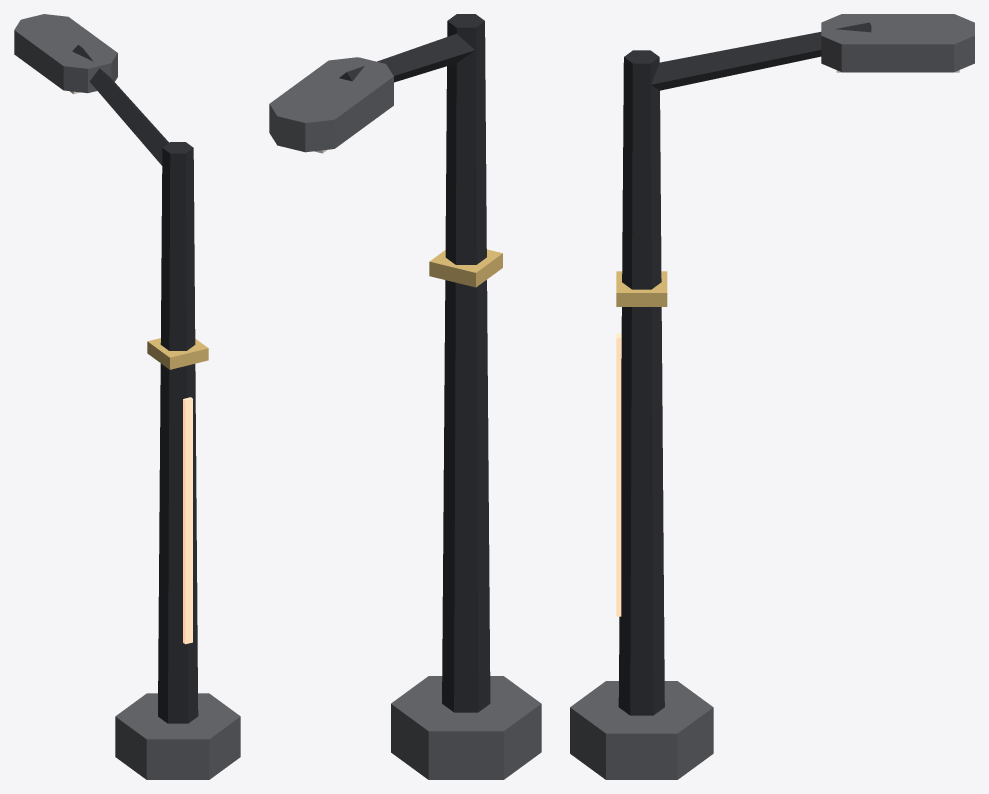
Rendered from Prop_Aegis_Streetlight.fbx.
3 views of the same model, side by side, from view 1: azimuth 30°, elevation 25°; view 2: azimuth 150°, elevation 25°; view 3: azimuth 270°, elevation 25° (orthographic). The views are drawn at different scales.
Visible parts, largest first — view 1: PSL_Pole, PSL_Foot, PSL_Head, PSL_Strip, PSL_Arm, PSL_Band; view 2: PSL_Pole, PSL_Foot, PSL_Head, PSL_Arm, PSL_Band; view 3: PSL_Pole, PSL_Foot, PSL_Head, PSL_Arm, PSL_Strip, PSL_Band.
Part boxes in pixels (box(x1,y1,x2,y2)): PSL_Pole: box(158, 142, 198, 723); PSL_Foot: box(115, 693, 240, 779); PSL_Head: box(14, 14, 117, 93); PSL_Strip: box(183, 397, 192, 644); PSL_Arm: box(72, 45, 168, 165); PSL_Band: box(147, 338, 208, 369); PSL_Pole: box(442, 14, 490, 712); PSL_Foot: box(391, 676, 541, 779); PSL_Head: box(269, 57, 393, 152); PSL_Arm: box(339, 33, 474, 82); PSL_Band: box(429, 249, 502, 287); PSL_Pole: box(618, 50, 664, 715); PSL_Foot: box(570, 681, 713, 779); PSL_Head: box(821, 14, 974, 72); PSL_Arm: box(651, 22, 871, 90); PSL_Strip: box(616, 333, 621, 616); PSL_Band: box(616, 271, 667, 306).
Bounding box in the file's own units: 0.2425 × 1.57 × 0.79.
